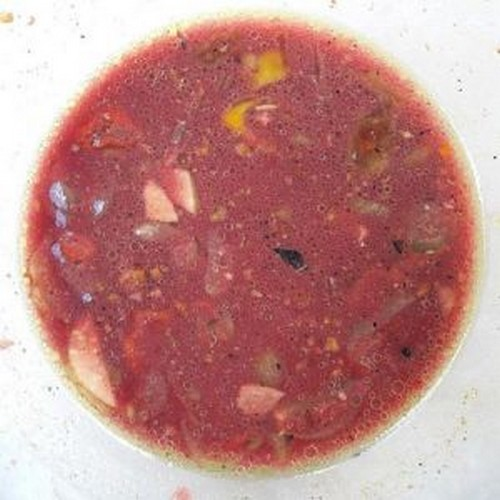komoh: (26, 38, 459, 462)
